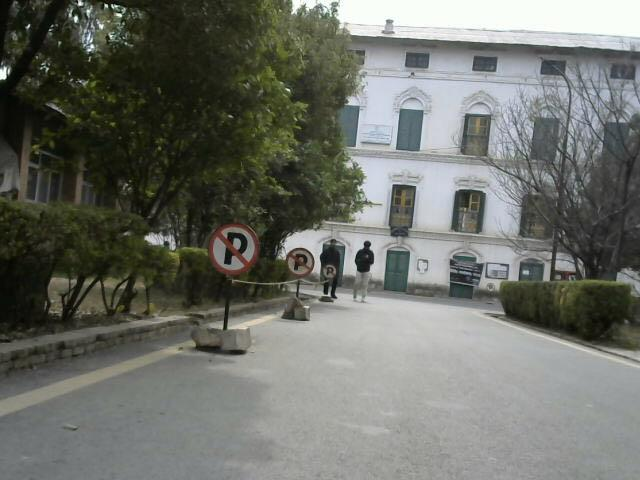Building: (385, 36, 500, 278)
Traffic sign: (211, 211, 256, 356), (287, 246, 314, 323), (350, 234, 377, 306), (321, 261, 334, 309)
Tree: (7, 302, 640, 480), (2, 2, 379, 207), (520, 65, 640, 285), (0, 201, 169, 329)
